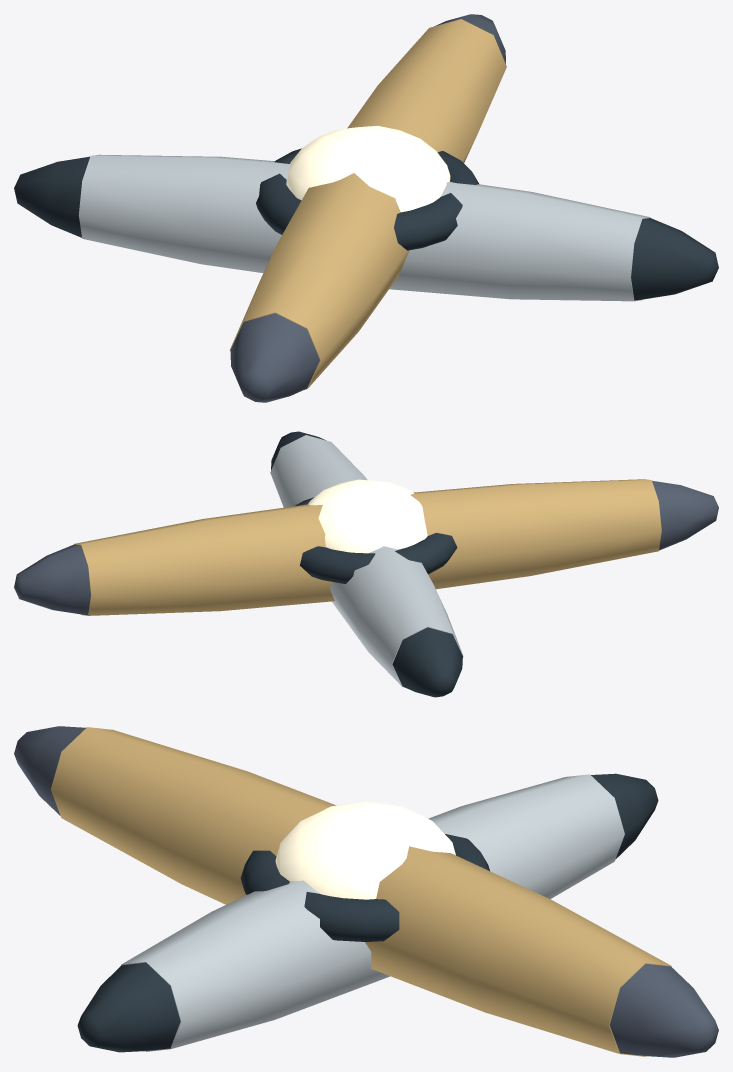
Rendered from shot_postit.glb.
3 renders of one model, top to bottom at view 1: azimuth 30°, elevation 25°; view 2: azimuth 150°, elevation 25°; view 3: azimuth 270°, elevation 25°, orthographic. The views are drawn at different scales.
Parts seen in each view (by area): view 1: pm_steel, pm_brass, pm_rivet, pm_brass_tip, pm_steel_tip.001, pm_ring, pm_steel_tip, pm_brass_tip.001; view 2: pm_brass, pm_steel, pm_rivet, pm_brass_tip.001, pm_steel_tip, pm_ring, pm_brass_tip; view 3: pm_brass, pm_steel, pm_rivet, pm_brass_tip.001, pm_steel_tip.001, pm_ring, pm_brass_tip, pm_steel_tip.
Boxes of the visible parts, bbox=[...] form: pm_steel: bbox=[78, 154, 650, 301]; pm_brass: bbox=[230, 19, 506, 389]; pm_rivet: bbox=[286, 126, 450, 212]; pm_brass_tip: bbox=[230, 313, 319, 402]; pm_steel_tip.001: bbox=[631, 218, 718, 300]; pm_ring: bbox=[256, 148, 478, 250]; pm_steel_tip: bbox=[14, 156, 89, 237]; pm_brass_tip.001: bbox=[434, 14, 505, 63]; pm_brass: bbox=[74, 479, 661, 615]; pm_steel: bbox=[270, 435, 463, 687]; pm_rivet: bbox=[308, 479, 427, 553]; pm_brass_tip.001: bbox=[14, 544, 90, 615]; pm_steel_tip: bbox=[392, 627, 462, 697]; pm_ring: bbox=[294, 497, 457, 583]; pm_brass_tip: bbox=[652, 480, 718, 550]; pm_brass: bbox=[50, 727, 671, 1056]; pm_steel: bbox=[121, 774, 624, 1051]; pm_rivet: bbox=[275, 801, 455, 899]; pm_brass_tip.001: bbox=[609, 964, 718, 1057]; pm_steel_tip.001: bbox=[77, 962, 180, 1052]; pm_ring: bbox=[240, 834, 489, 941]; pm_brass_tip: bbox=[14, 726, 86, 815]; pm_steel_tip: bbox=[591, 773, 658, 858].
Size of the model in its own units: 11.75 by 3 by 11.75.
